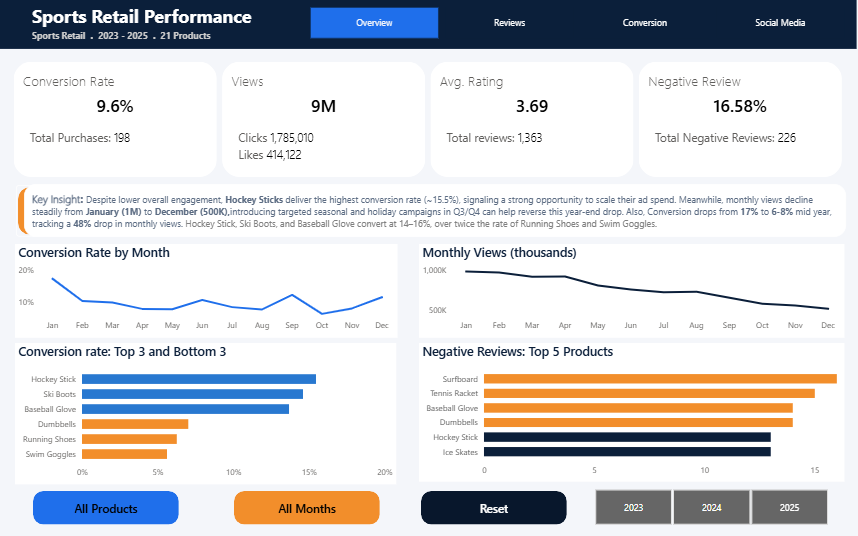

Layout of this report page (visuals, bound fields, positions):
{"tool":"powerbi","page":{"name":"Overview","canvas":[1283,800],"ordinal":0},"visuals":[{"type":"textbox","box":[0,0,1280.3,73.3],"z":0},{"type":"shape","box":[25.3,276.7,1198.2,77.4],"z":0,"group":"g1"},{"type":"textbox","box":[36.7,275.1,1226.8,79],"z":1000,"group":"g1"},{"type":"slicer","fields":{"Values":["Calendar.Year"]},"box":[864.7,723.5,397.1,66.2],"z":1000},{"type":"clusteredBarChart","title":"Conversion rate: Top 3 and Bottom 3","fields":{"Category":["dim_products.ProductName"],"Y":["_Measures.Conversion Rate"]},"box":[24.3,511.4,568.6,211.4],"z":2000},{"type":"clusteredBarChart","title":"Negative Reviews: Top 5 Products","fields":{"Category":["dim_products.ProductName"],"Y":["_Measures.Number of Negative Reviews"]},"box":[626.5,511.8,635.3,207.4],"z":3000},{"type":"cardVisual","fields":{"Data":["_Measures.Conversion Rate","_Measures.Views","_Measures.Rating (Average)","_Measures.Negative Review %"]},"box":[2.9,72.9,1277.1,210],"z":4000},{"type":"lineChart","title":"Monthly Views (thousands)","fields":{"Y":["_Measures.Views"],"Category":["Calendar.MonthNameShort"]},"box":[626.5,364.7,635.3,139.7],"z":5000},{"type":"lineChart","title":"Conversion Rate by Month","fields":{"Category":["Calendar.MonthNameShort"],"Y":["_Measures.Conversion Rate"]},"box":[23.5,364.7,570.6,139.7],"z":6000},{"type":"actionButton","box":[51.5,732.4,217.6,50],"z":7000},{"type":"actionButton","title":"MonthsButton","box":[350,732.4,217.6,50],"z":9000},{"type":"actionButton","title":"MonthsButton","box":[629.4,732.4,217.6,50],"z":11000},{"type":"pageNavigator","box":[464.3,10.3,799.3,47],"z":12000},{"type":"group","id":"g1","title":"KeyInsightBox","box":[25.3,275.1,1238.2,79],"z":13000}]}

Visuals, with their boxes in screenshot pixels (x1, y1, x2, y2), scaled from the page's 1283x800 canvas onto the 858x536 screenshot:
textbox: 0:0:856:49
shape: 17:185:818:237
textbox: 25:184:845:237
slicer - Calendar.Year: 578:485:844:529
"Conversion rate: Top 3 and Bottom 3" clusteredBarChart: 16:343:396:484
"Negative Reviews: Top 5 Products" clusteredBarChart: 419:343:844:482
cardVisual - _Measures.Conversion Rate x _Measures.Views: 2:49:856:190
"Monthly Views (thousands)" lineChart: 419:244:844:338
"Conversion Rate by Month" lineChart: 16:244:397:338
actionButton: 34:491:180:524
"MonthsButton" actionButton: 234:491:380:524
"MonthsButton" actionButton: 421:491:566:524
pageNavigator: 310:7:845:38
"KeyInsightBox" group: 17:184:845:237
